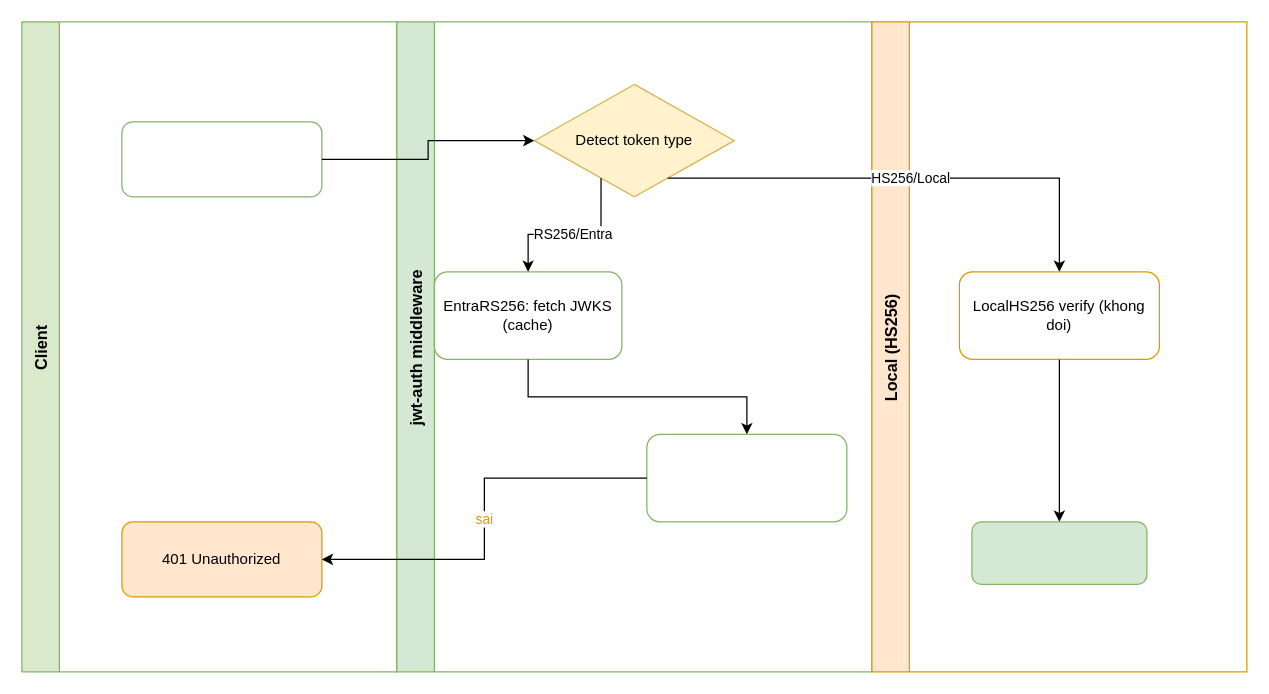
Some shapes in this 1269 by 694 pixel diagram are drawn without their labels. Here are the shapes that lost their labels. From the top down, the centre of each, then its label:
the point at 221,159: HTTP Request
the point at 746,477: Verify sig/iss/aud/exp/nonce
the point at 1059,552: pass
